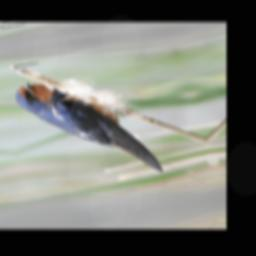Swallow: (10, 66, 164, 192)
